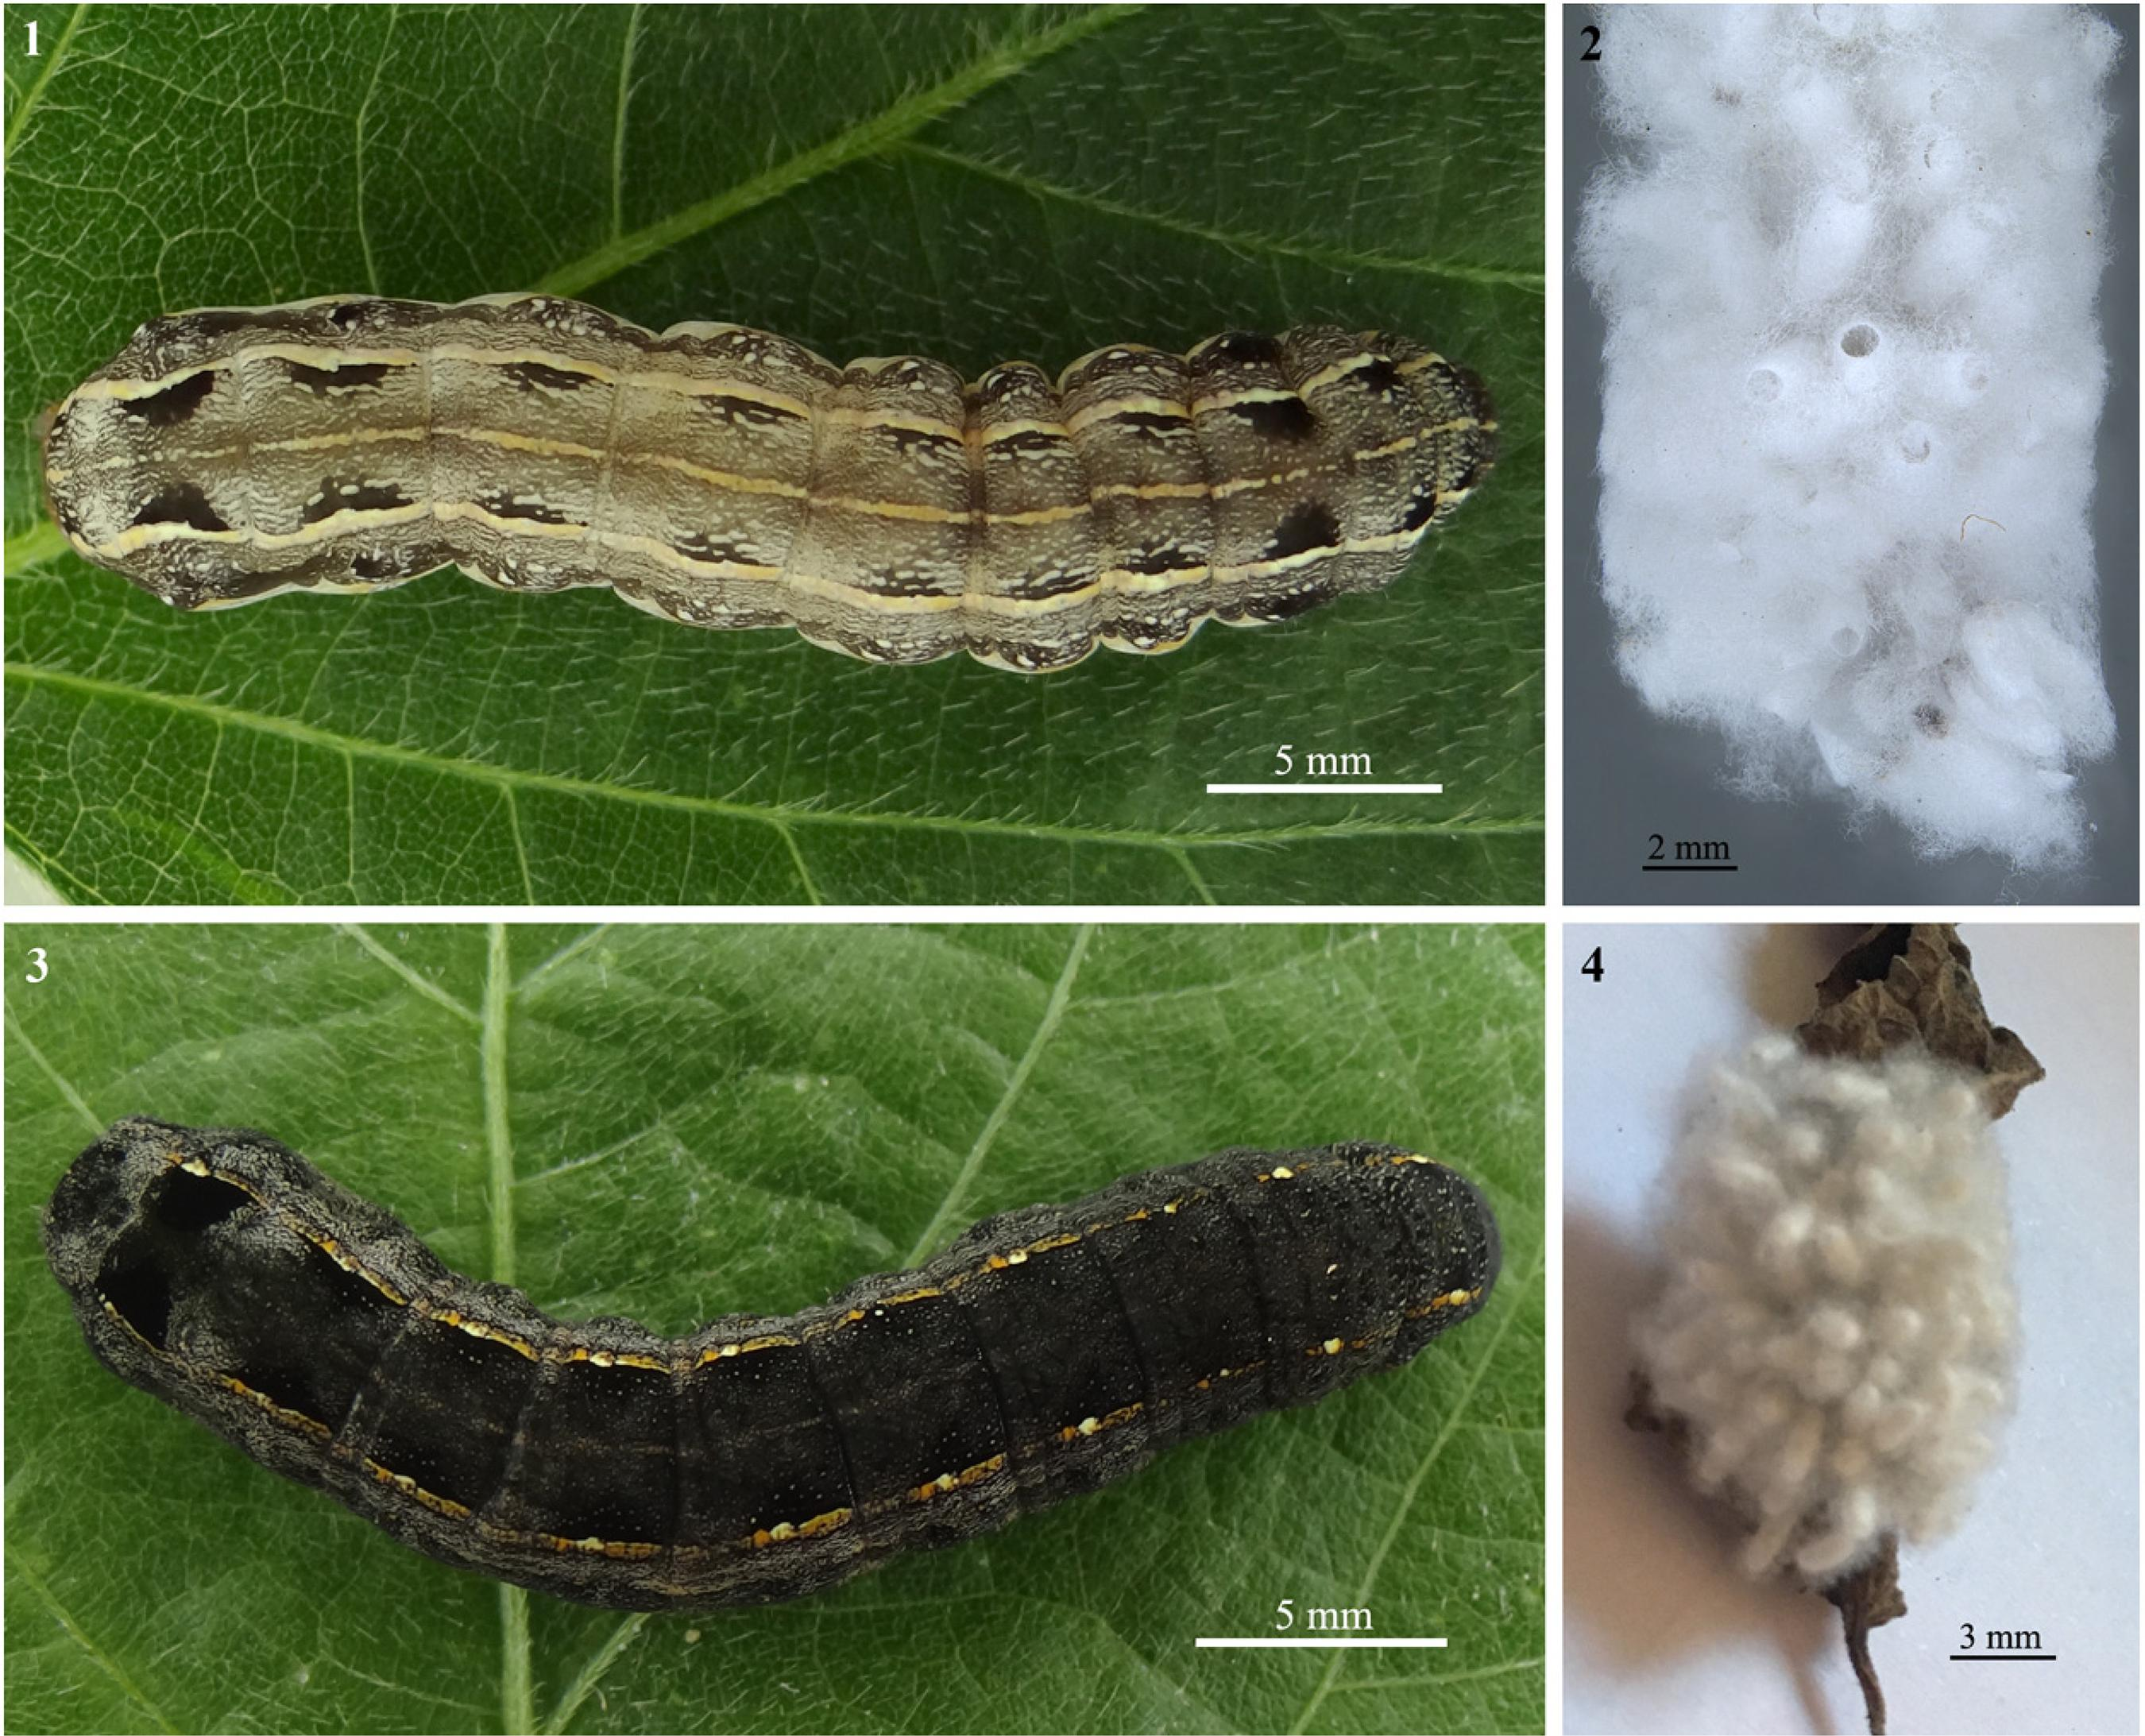Armyworm: (20, 1003, 1535, 1645), (42, 220, 1527, 724)
